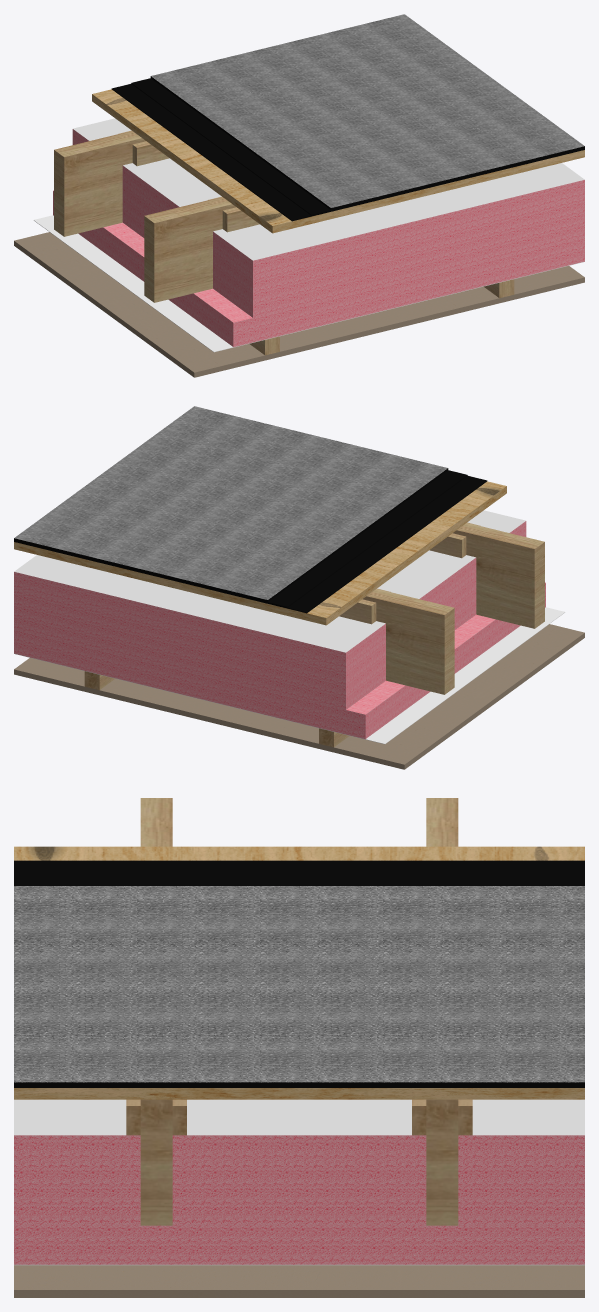
The model's file is Flat-Roof_Cold-Roof_01.glb.
The picture shows the model from 3 angles, top to bottom: view 1: azimuth 30°, elevation 25°; view 2: azimuth 150°, elevation 25°; view 3: azimuth 270°, elevation 25°; orthographic projection. The views are drawn at different scales.
Parts seen in each view (by area): view 1: Geom3D_12, Geom3D__2, Geom3D__9, Geom3D__1, Geom3D_9, Geom3D_, Geom3D, Geom3D_1, Geom3D__6, Geom3D__7, Geom3D__5, Geom3D_10 (+5 smaller); view 2: Geom3D_12, Geom3D__4, Geom3D__9, Geom3D__1, Geom3D_11, Geom3D_, Geom3D_1, Geom3D, Geom3D__6, Geom3D__7, Geom3D__5, Geom3D_10 (+5 smaller); view 3: Geom3D_12, Geom3D__3, Geom3D__1, Geom3D__9, Geom3D_, Geom3D__2, Geom3D__4, Geom3D__6, Geom3D_10, Geom3D__7, Geom3D, Geom3D_1 (+4 smaller).
Part boxes in pixels (box(x1,y1,x2,y2)): Geom3D_12: box(151, 14, 584, 207); Geom3D__2: box(213, 180, 584, 317); Geom3D__9: box(14, 232, 584, 377); Geom3D__1: box(53, 190, 584, 347); Geom3D_9: box(213, 163, 584, 260); Geom3D_: box(92, 89, 584, 233); Geom3D: box(144, 197, 236, 302); Geom3D_1: box(54, 131, 145, 236); Geom3D__6: box(111, 84, 584, 221); Geom3D__7: box(131, 78, 584, 215); Geom3D__5: box(33, 215, 584, 352); Geom3D_10: box(123, 158, 221, 206); Geom3D_12: box(14, 406, 447, 599); Geom3D__4: box(14, 572, 385, 709); Geom3D__9: box(14, 624, 584, 769); Geom3D__1: box(14, 582, 545, 739); Geom3D_11: box(14, 555, 385, 652); Geom3D_: box(14, 481, 506, 625); Geom3D_1: box(362, 589, 454, 694); Geom3D: box(453, 523, 544, 628); Geom3D__6: box(14, 476, 487, 613); Geom3D__7: box(14, 470, 467, 607); Geom3D__5: box(14, 607, 565, 744); Geom3D_10: box(377, 550, 475, 598); Geom3D_12: box(14, 886, 584, 1082); Geom3D__3: box(172, 1135, 426, 1225); Geom3D__1: box(14, 1225, 584, 1264); Geom3D__9: box(14, 1265, 584, 1297); Geom3D_: box(14, 846, 584, 1099); Geom3D__2: box(14, 1135, 140, 1225); Geom3D__4: box(458, 1135, 584, 1225); Geom3D__6: box(14, 860, 584, 1087); Geom3D_10: box(187, 1099, 411, 1135); Geom3D__7: box(14, 874, 584, 1086); Geom3D: box(140, 798, 172, 1225); Geom3D_1: box(426, 798, 458, 1225).
Size of the model in its own units: 1 by 0.3335 by 0.8.
9 materials, 6 textured.
